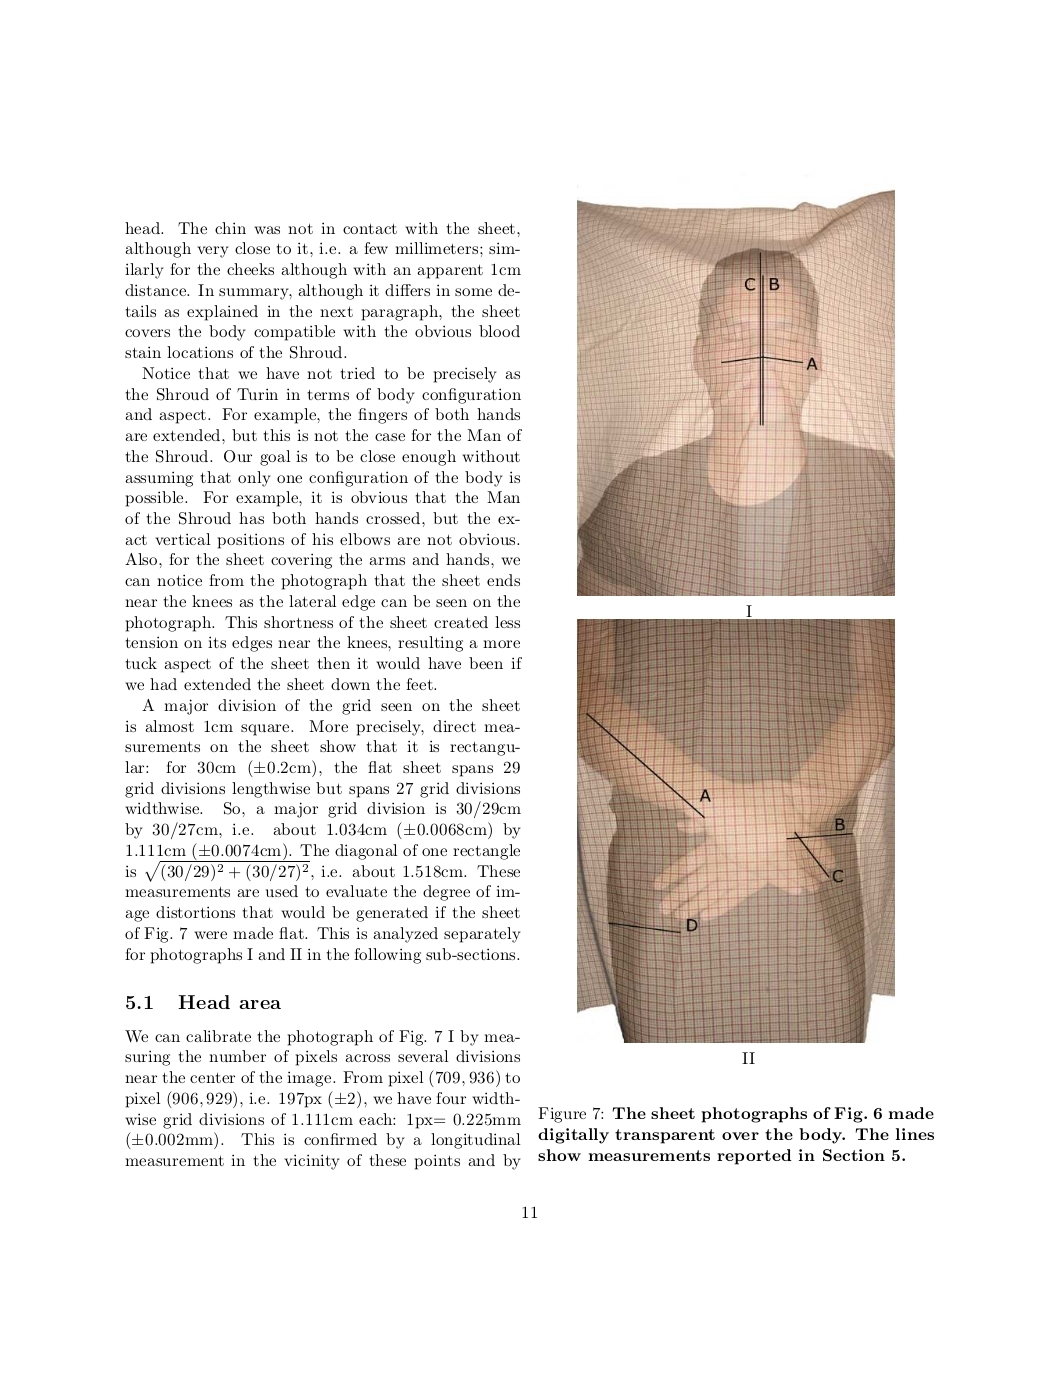figure: (577, 619, 894, 1043), (577, 189, 894, 596)
